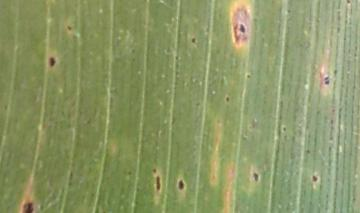tarspot: (20, 200, 38, 213), (177, 178, 187, 193), (251, 170, 261, 183), (155, 175, 161, 193), (47, 56, 56, 67), (324, 74, 330, 87), (239, 24, 246, 34), (311, 174, 318, 183), (223, 95, 230, 103), (66, 25, 73, 31), (152, 167, 157, 173), (191, 36, 195, 43), (246, 74, 251, 79), (281, 127, 287, 131)
